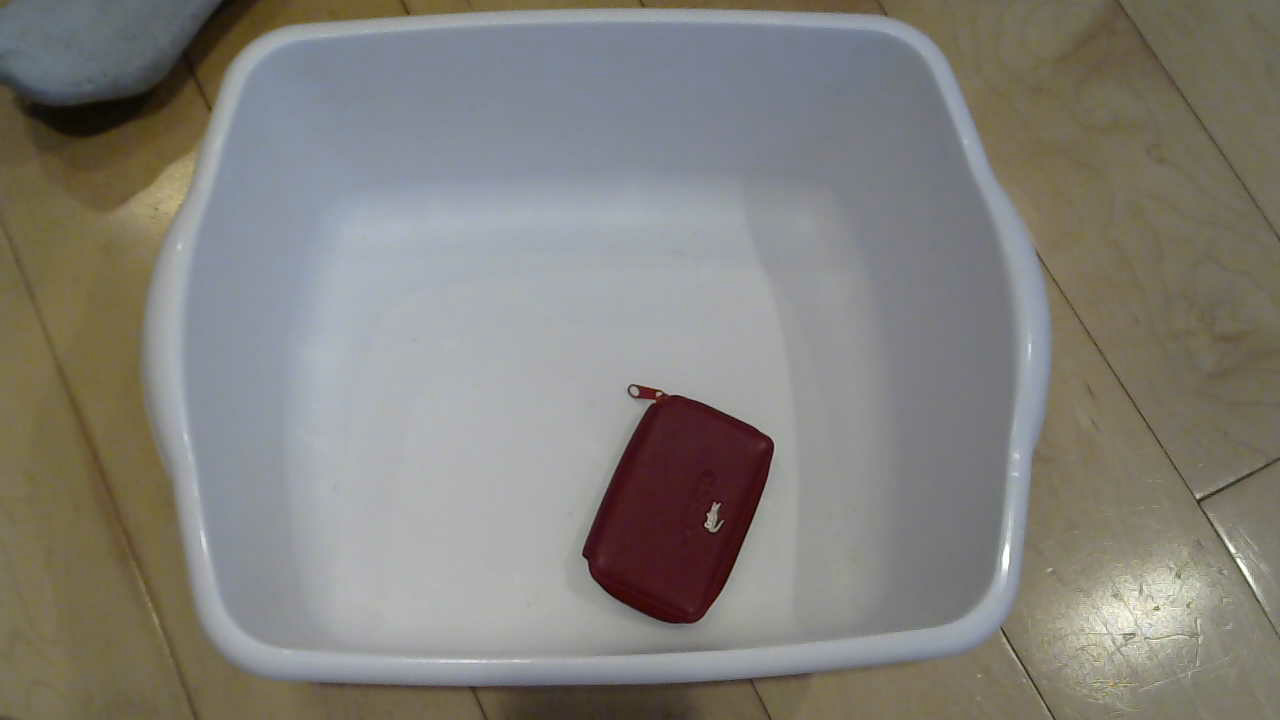wallet: (570, 387, 806, 627)
